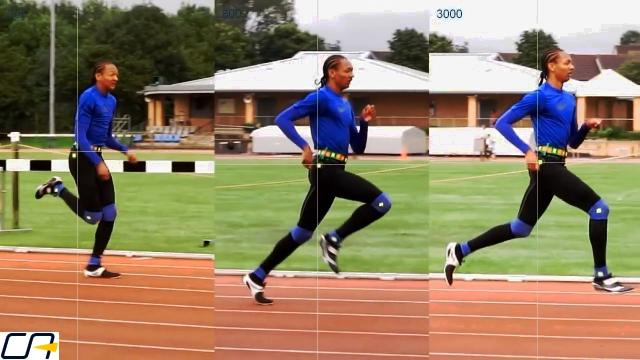berlari: (441, 40, 631, 300), (240, 45, 396, 317), (35, 55, 137, 282)
